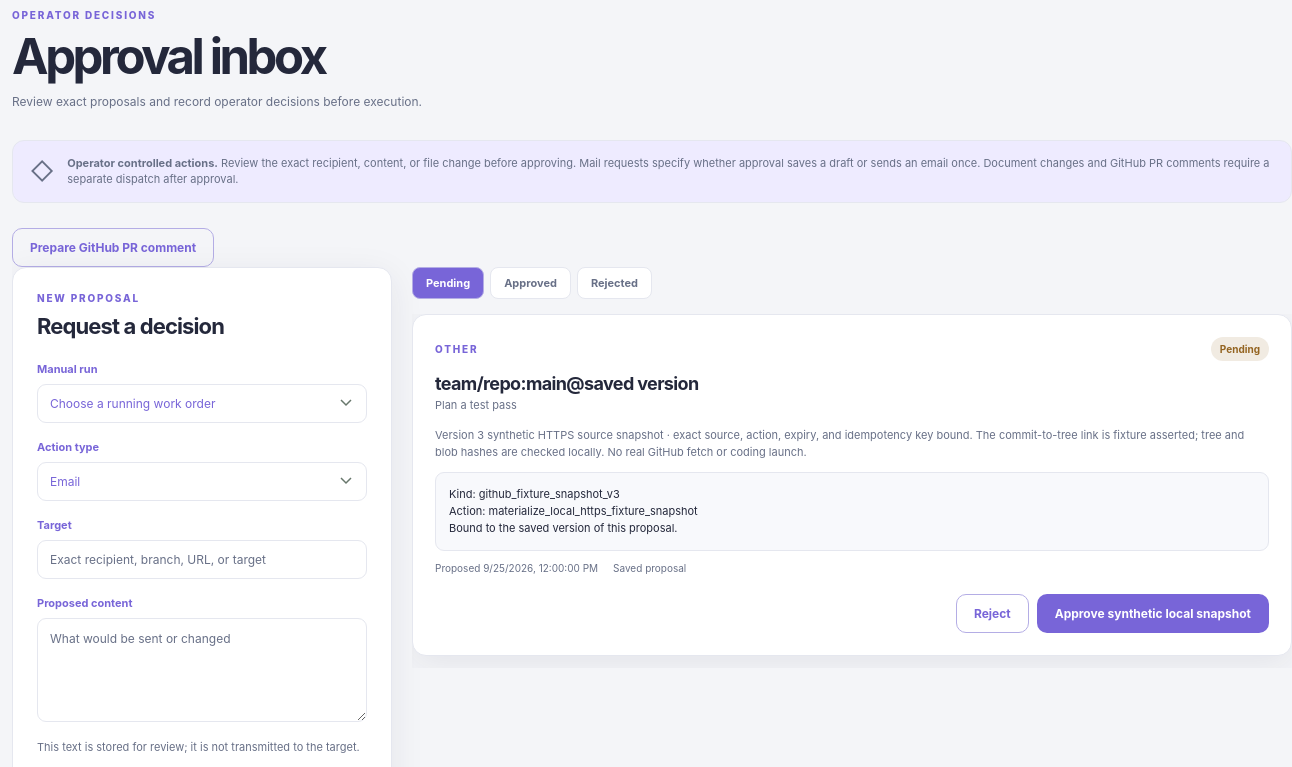
it: keeps v3 snapshot approval separate and shows its durable local CAS receipt
The image size is (1292, 767).
Expected: the text "Version 3 synthetic HTTPS source snapshot" is shown, [435,428,1244,458]
What coordinates should you click on to do the following:
click the button "Approve synthetic local snapshot"
I would click on:
 (1153, 613)
Its box is [1037,594,1269,633].
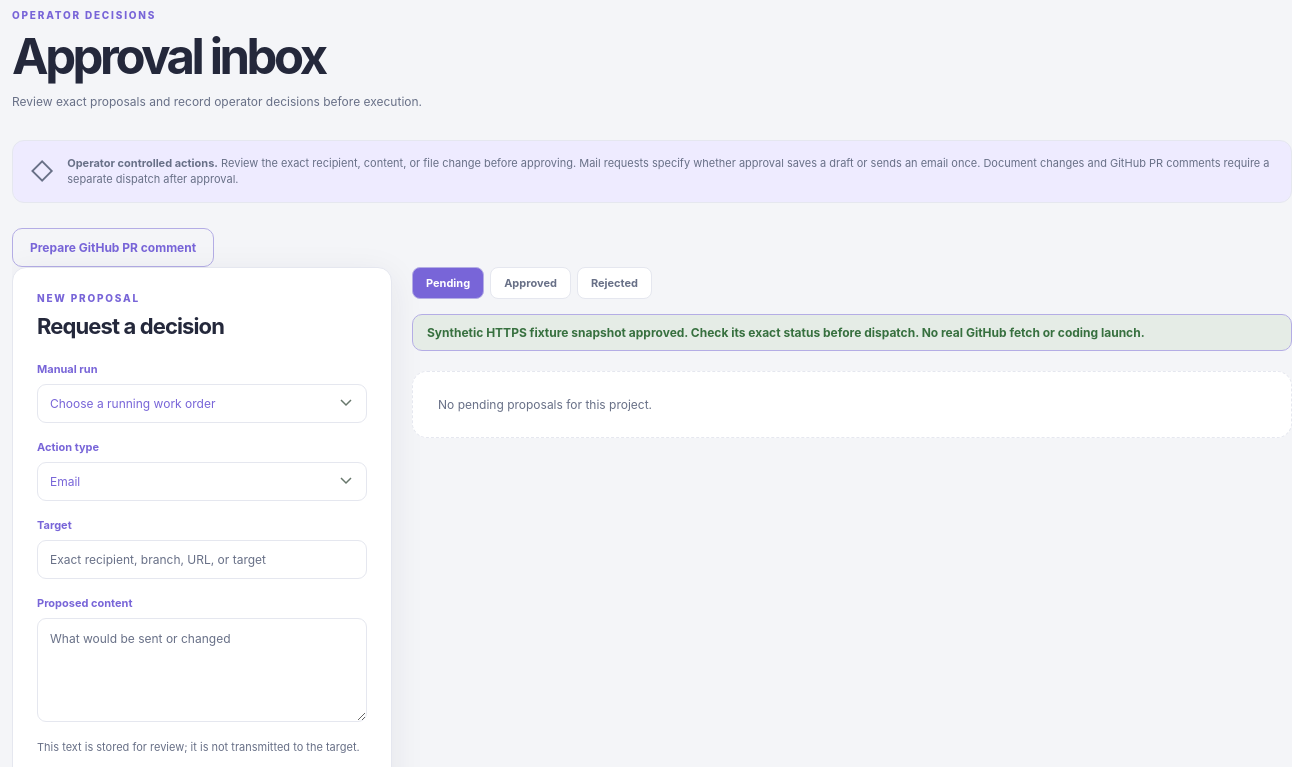
What coordinates should you click on to do the following:
click the button "approved"
I would click on:
 (531, 282)
Its box is [490,266,571,298].
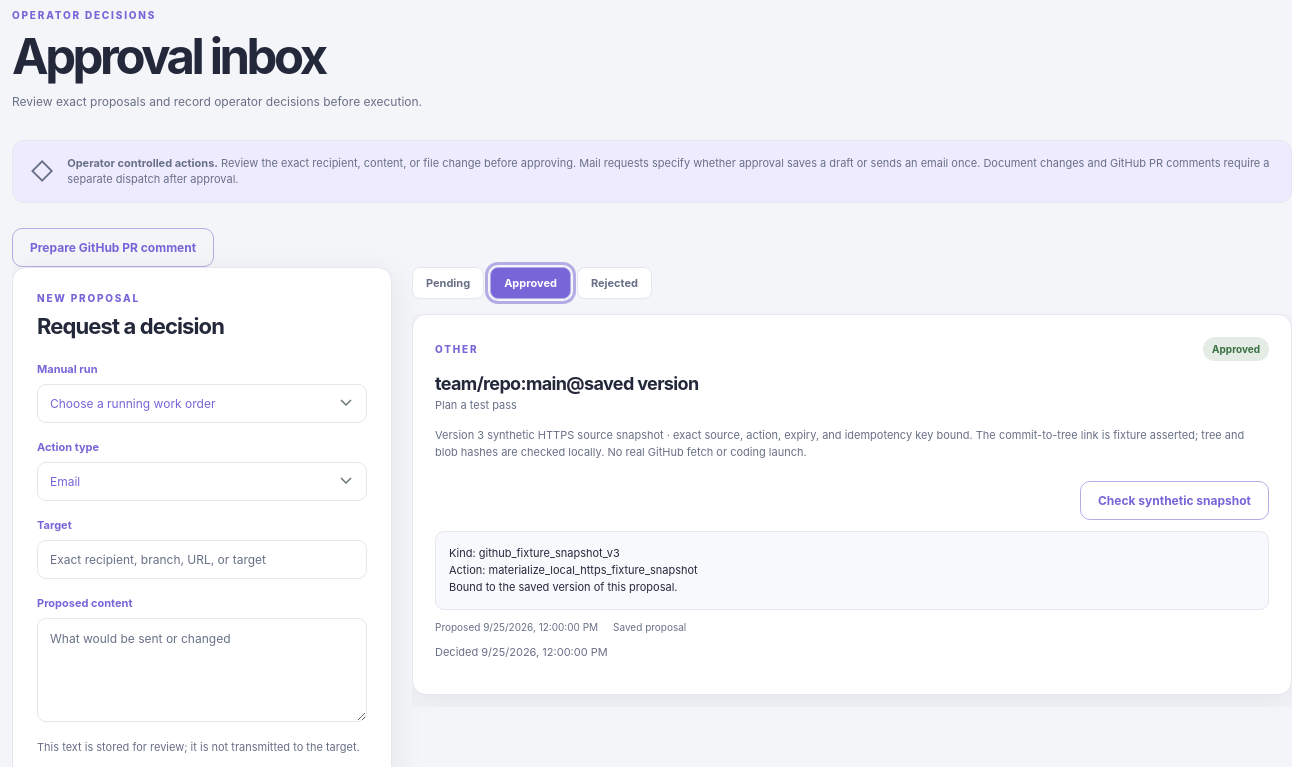
What coordinates should you click on to do the following:
click the button "Check synthetic snapshot"
I would click on:
 (1174, 500)
Its box is [1080,481,1269,520].
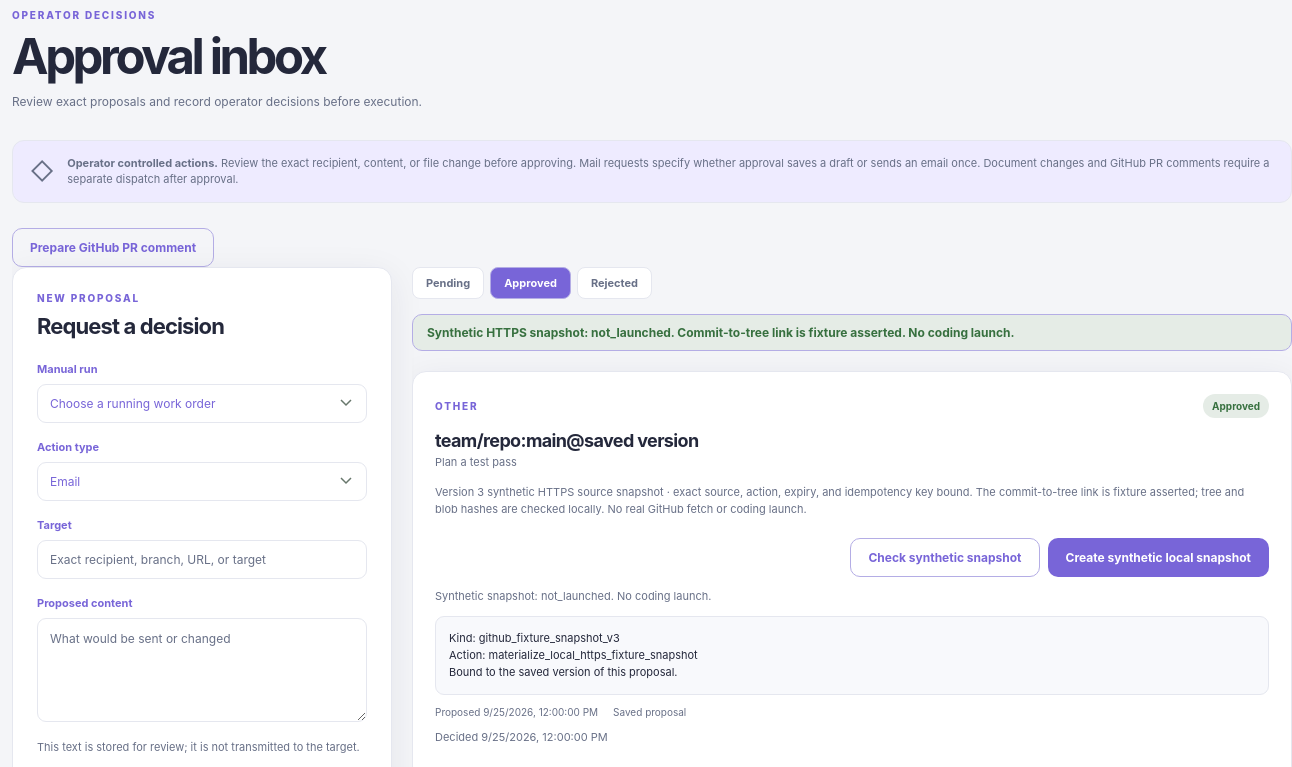
What coordinates should you click on to do the following:
click the button "Create synthetic local snapshot"
I would click on:
 (1158, 557)
Its box is [1048,538,1269,577].
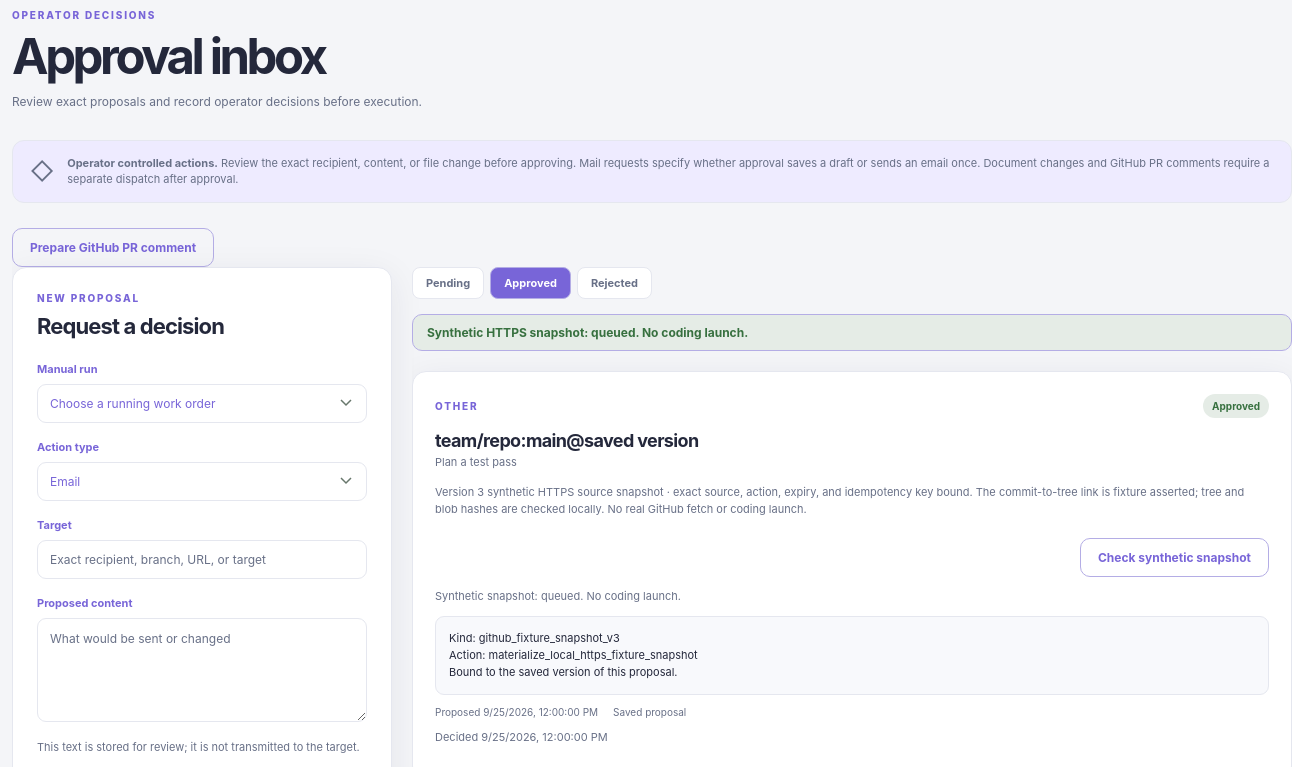
Now the text "Synthetic HTTPS snapshot: queued. No coding launch." is shown, box [412,314,1291,350]
Now the button "Create synthetic local snapshot" is gone
